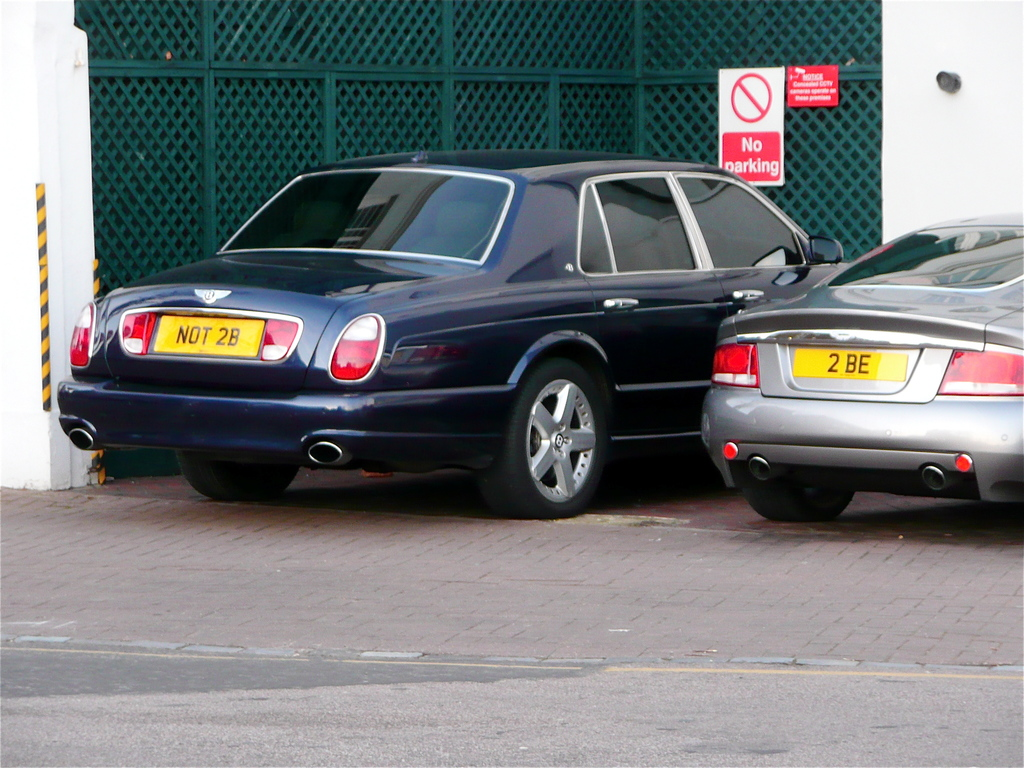Car: (57, 151, 847, 517), (699, 207, 1023, 522)
